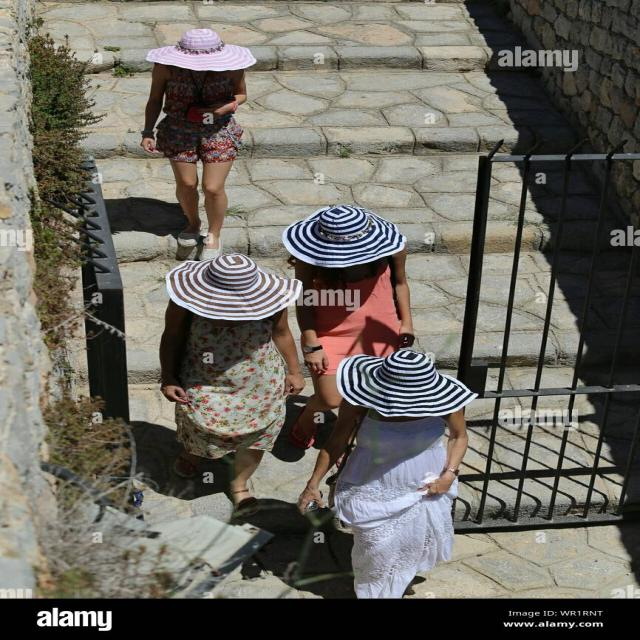hat: (342, 346, 480, 424), (165, 255, 301, 332), (279, 200, 405, 282), (144, 28, 262, 86)
